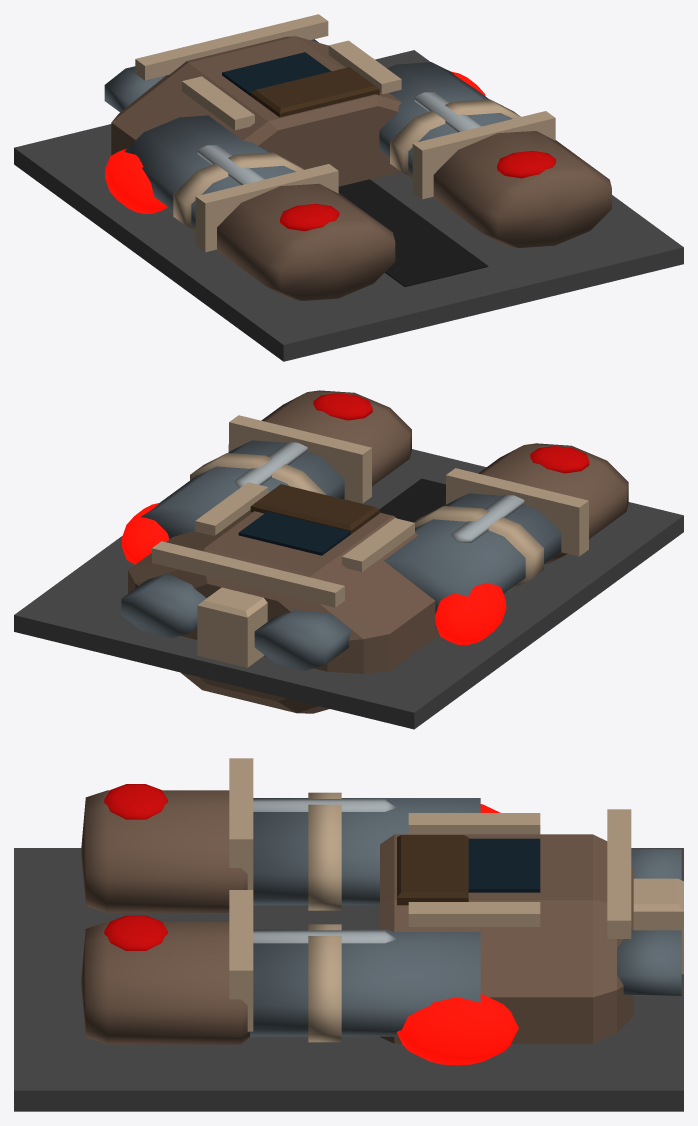
File: newshp-271-f2.glb
The picture shows the model from 3 angles, top to bottom: view 1: azimuth 30°, elevation 25°; view 2: azimuth 150°, elevation 25°; view 3: azimuth 270°, elevation 25°; orthographic projection. The views are drawn at different scales.
Parts seen in each view (by area): view 1: newshp-271-f2; view 2: newshp-271-f2; view 3: newshp-271-f2.
Boxes of the visible parts, x1,y1,x2,y2 form: newshp-271-f2: [14, 14, 683, 361]; newshp-271-f2: [14, 390, 683, 729]; newshp-271-f2: [14, 758, 683, 1111].
Size of the model in its own units: 2 by 0.6988 by 2.33.
